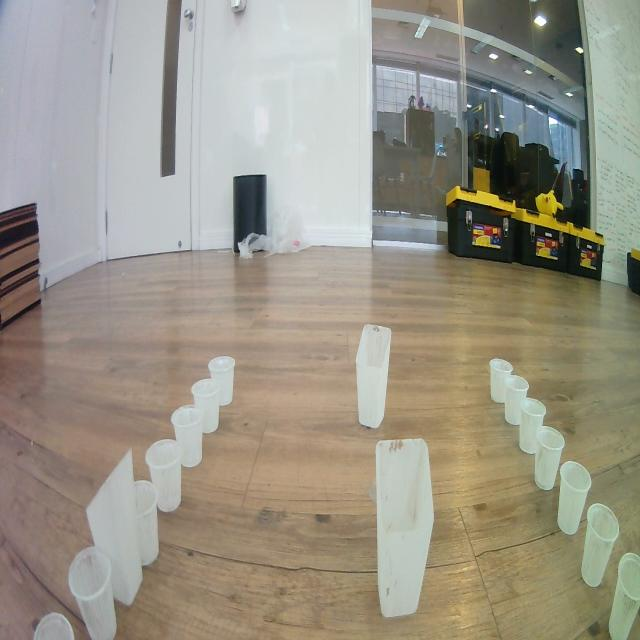erva_daninha: (374, 437, 435, 619), (85, 448, 143, 610), (355, 323, 393, 430)
planta: (68, 544, 117, 640), (580, 502, 619, 588), (145, 438, 183, 513), (607, 551, 639, 640), (557, 460, 591, 536), (132, 480, 160, 567), (170, 404, 203, 468), (534, 426, 565, 491), (190, 378, 222, 434), (518, 397, 547, 455), (208, 355, 236, 407), (31, 609, 76, 640), (504, 374, 530, 426), (488, 357, 514, 404)
